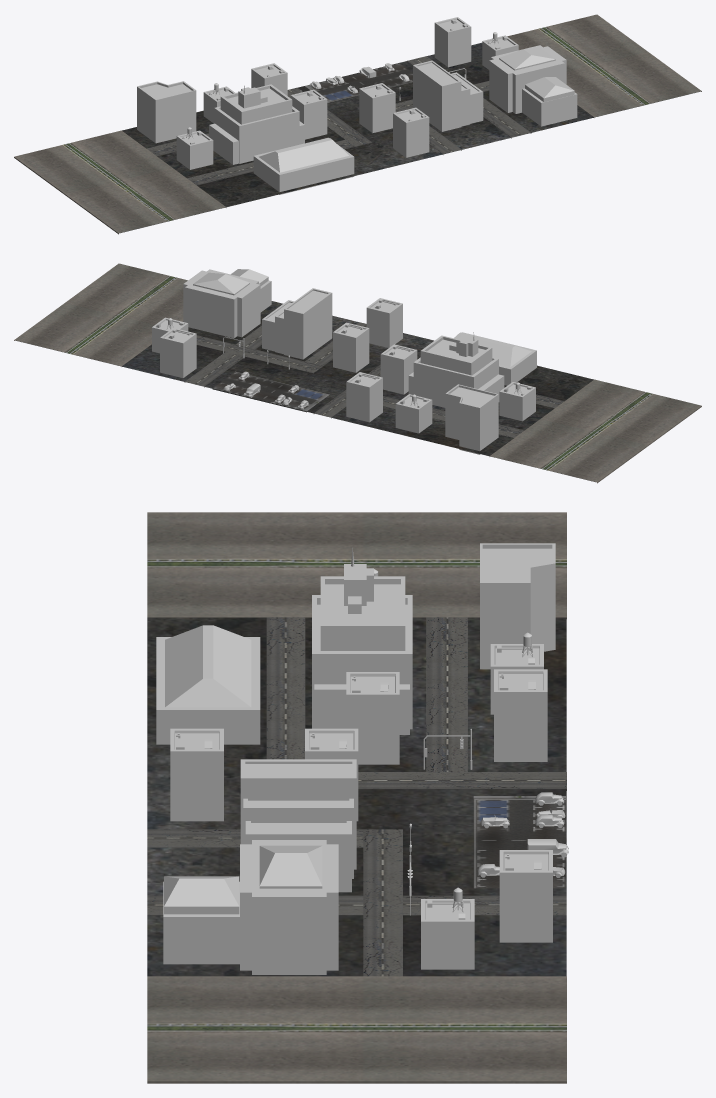
The model's file is Block_22.fbx.
The picture shows the model from 3 angles, top to bottom: view 1: azimuth 30°, elevation 25°; view 2: azimuth 150°, elevation 25°; view 3: azimuth 270°, elevation 25°; orthographic projection. The views are drawn at different scales.
Parts seen in each view (by area): view 1: pasted__polySurface1348; view 2: pasted__polySurface1348; view 3: pasted__polySurface1348.
Part boxes in pixels (bbox=[...]): pasted__polySurface1348: bbox=[14, 14, 701, 234]; pasted__polySurface1348: bbox=[14, 263, 701, 483]; pasted__polySurface1348: bbox=[147, 512, 568, 1083].
Bounding box in the file's own units: 459 × 144 × 55.04.
